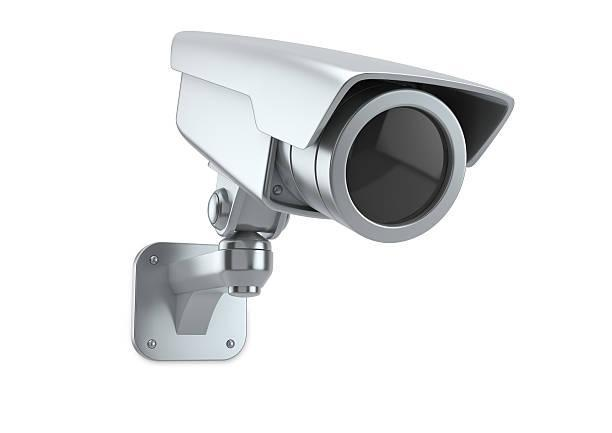camera: (160, 9, 500, 293)
